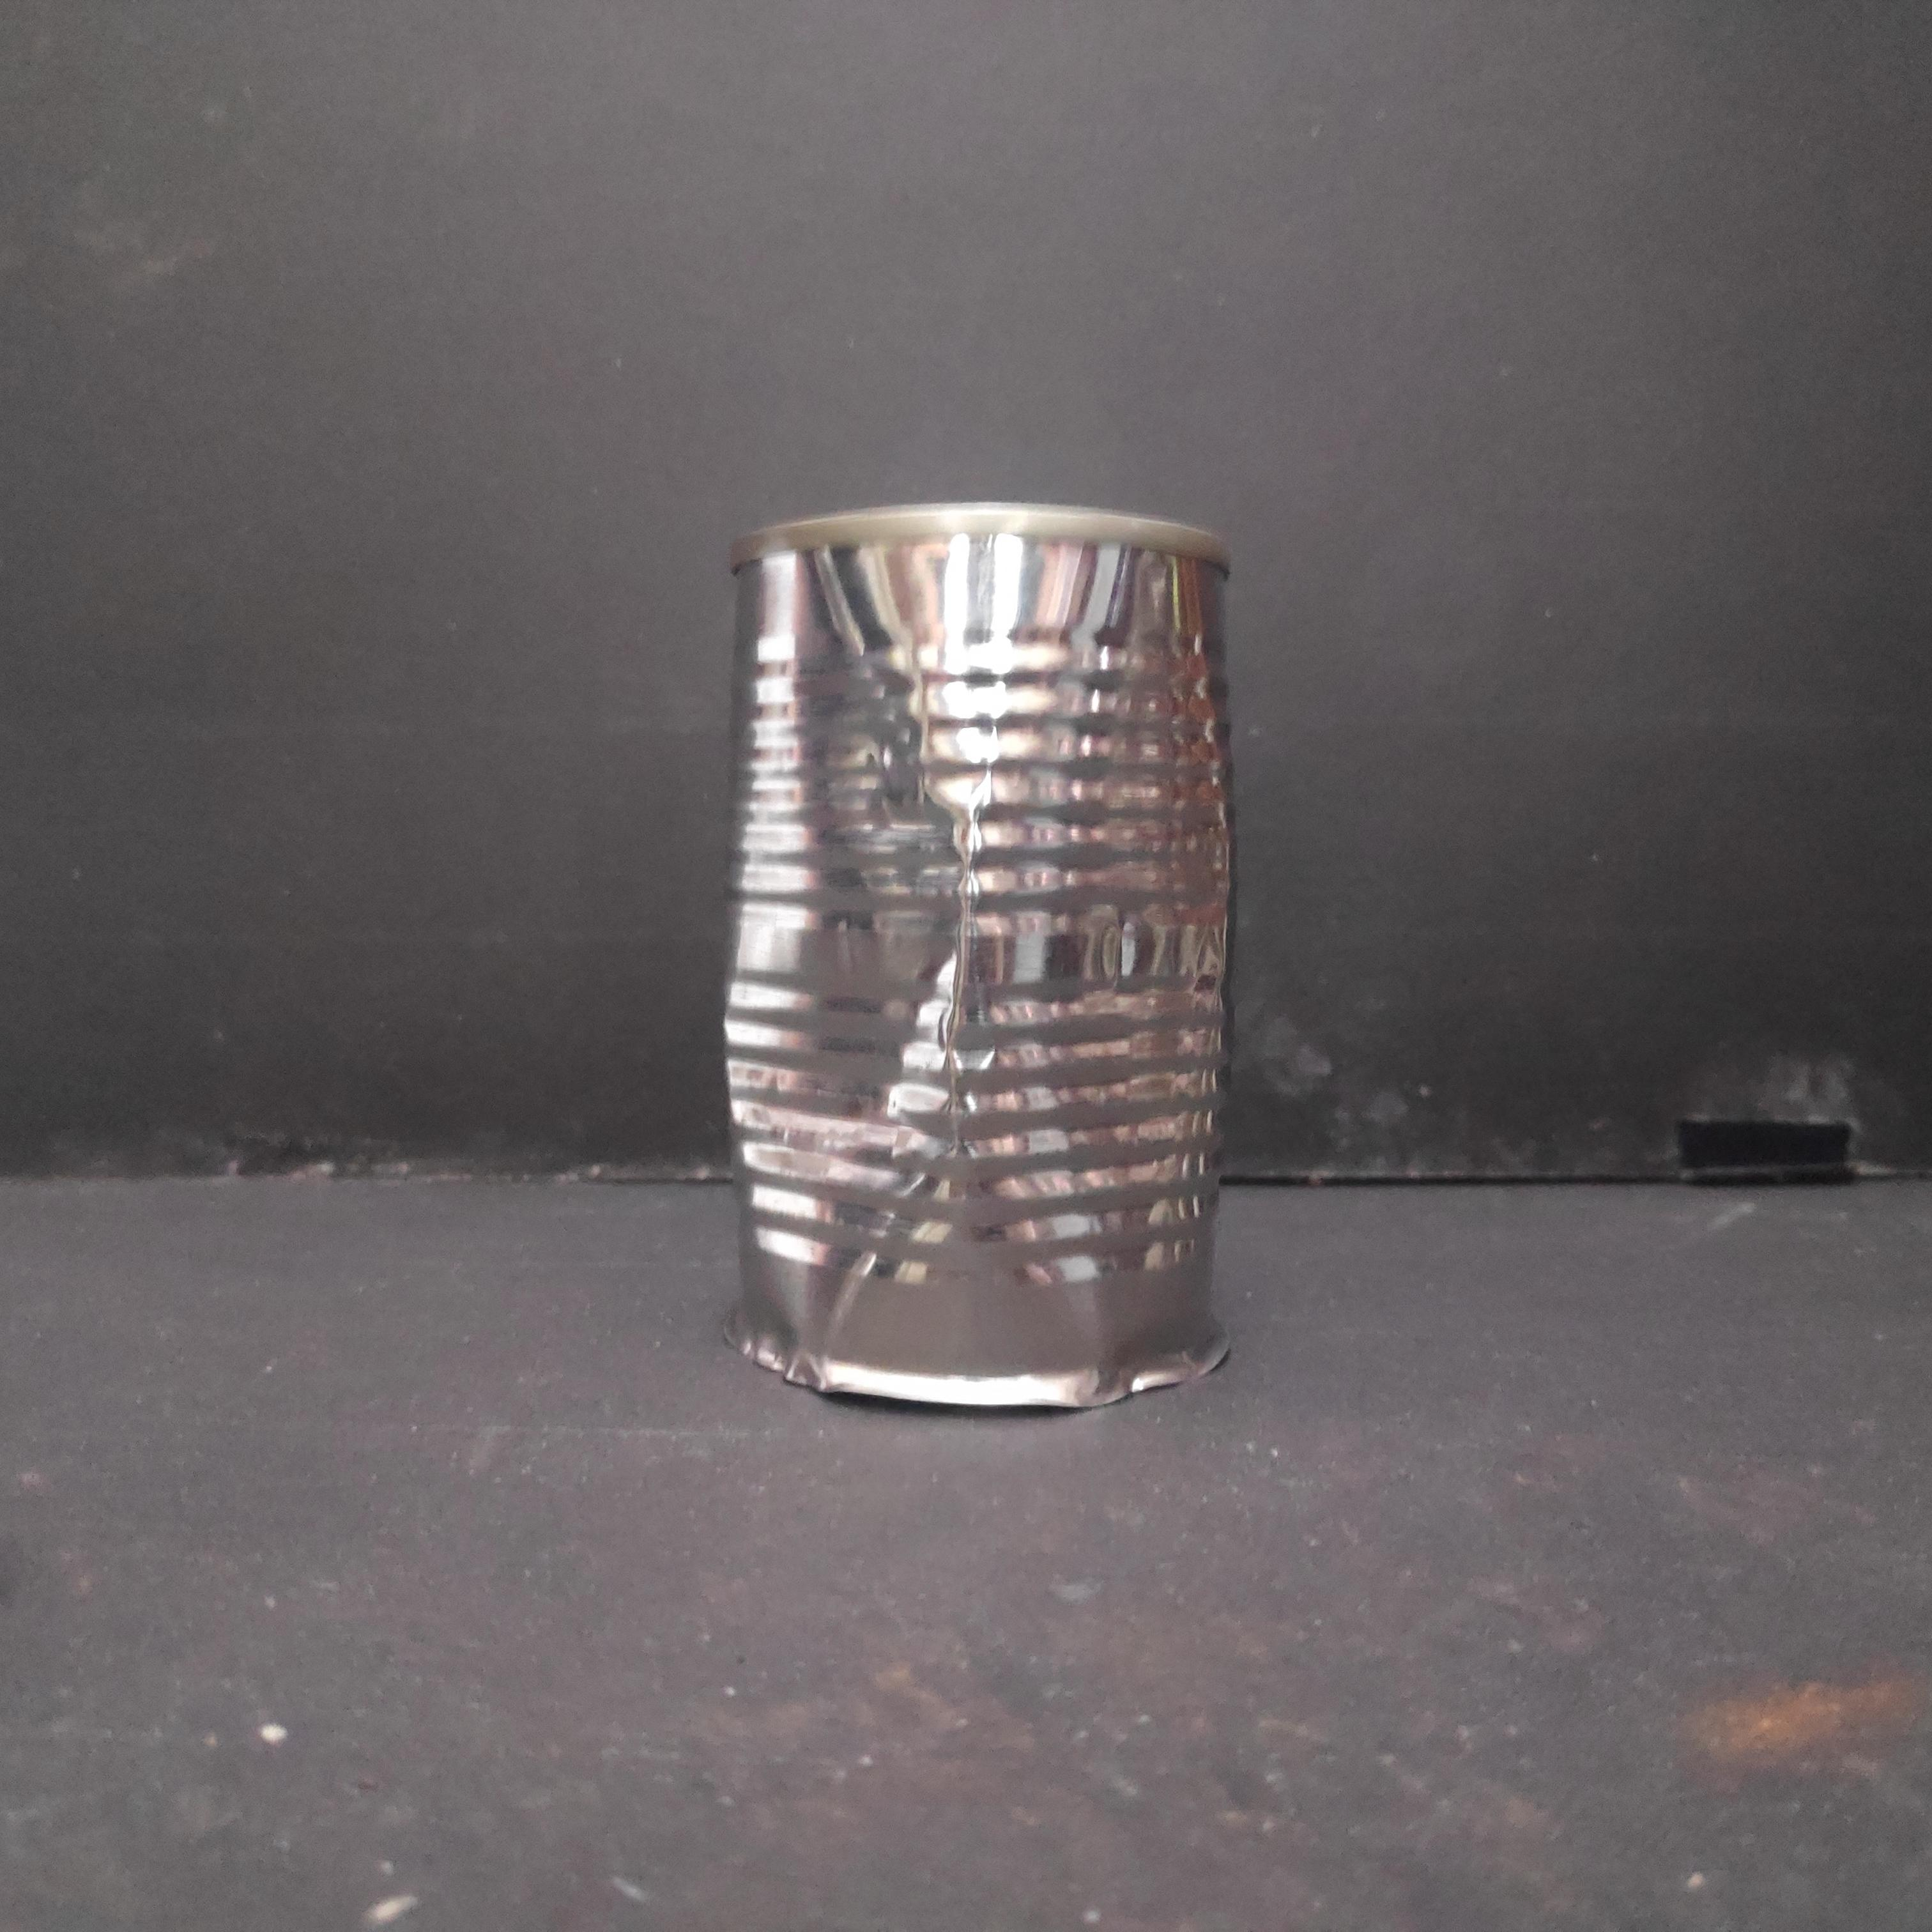Minor Defect: (701, 495, 1256, 1426)
